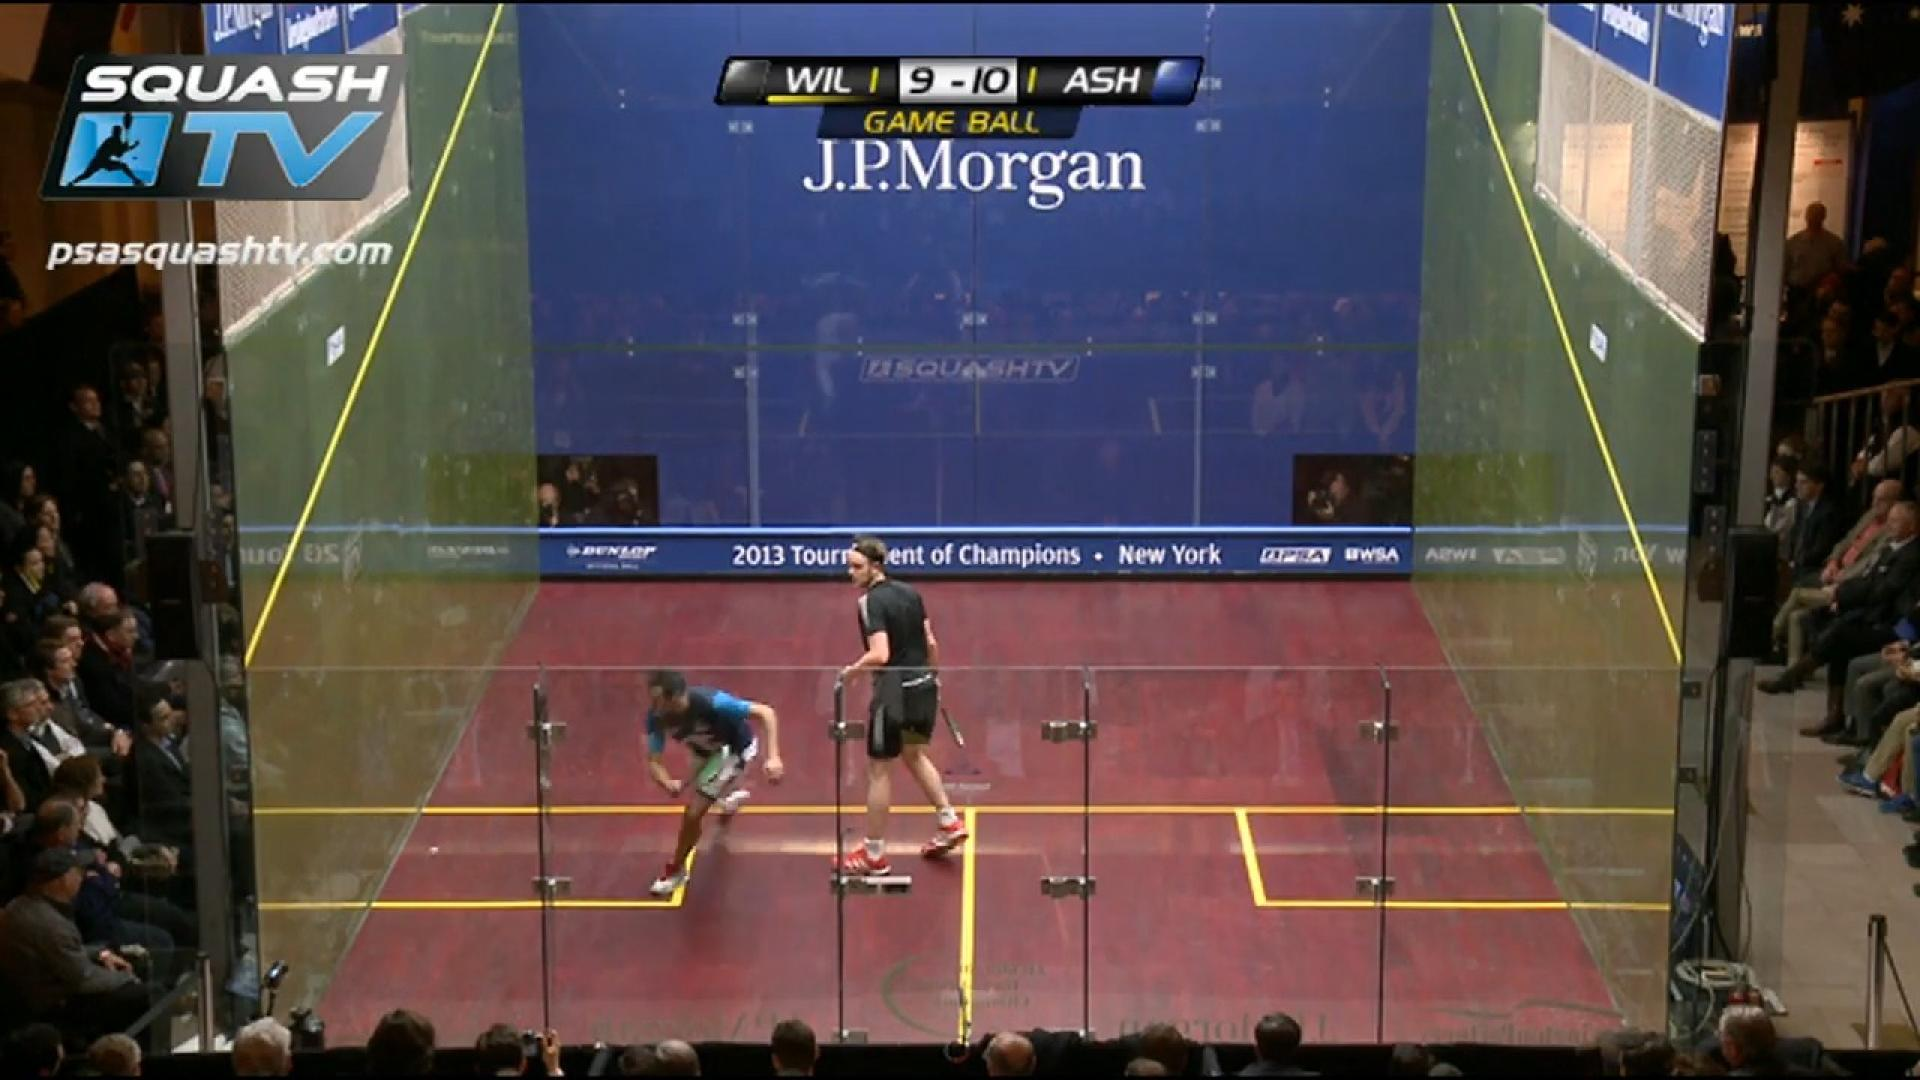Squash-Ball: (413, 832, 451, 873)
